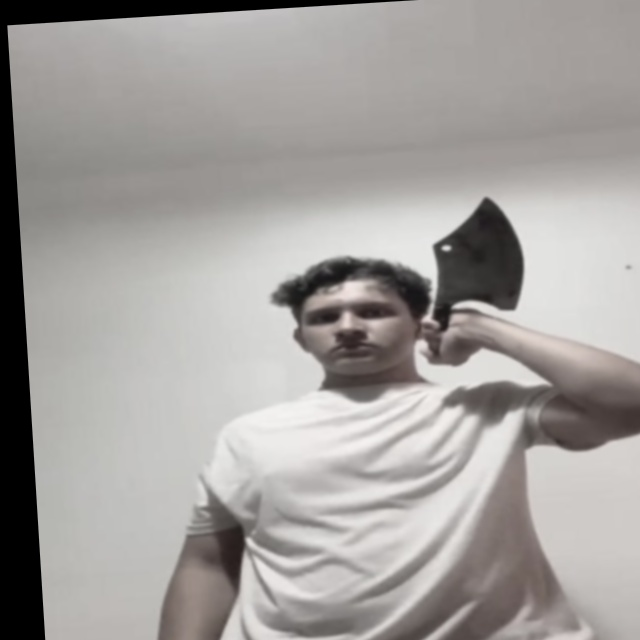Sharp-Object: (431, 195, 527, 317)
